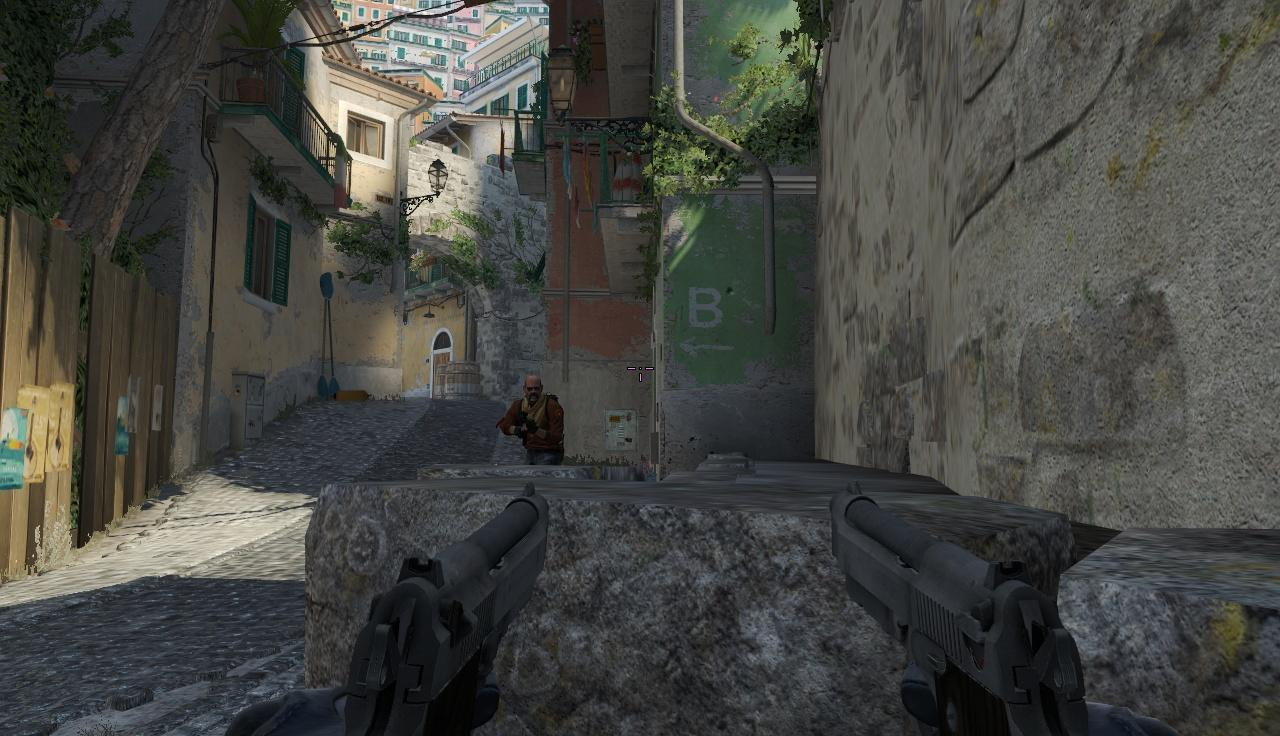pistol: (811, 484, 1142, 736)
tt: (508, 378, 562, 466)
tthead: (523, 377, 543, 406)
